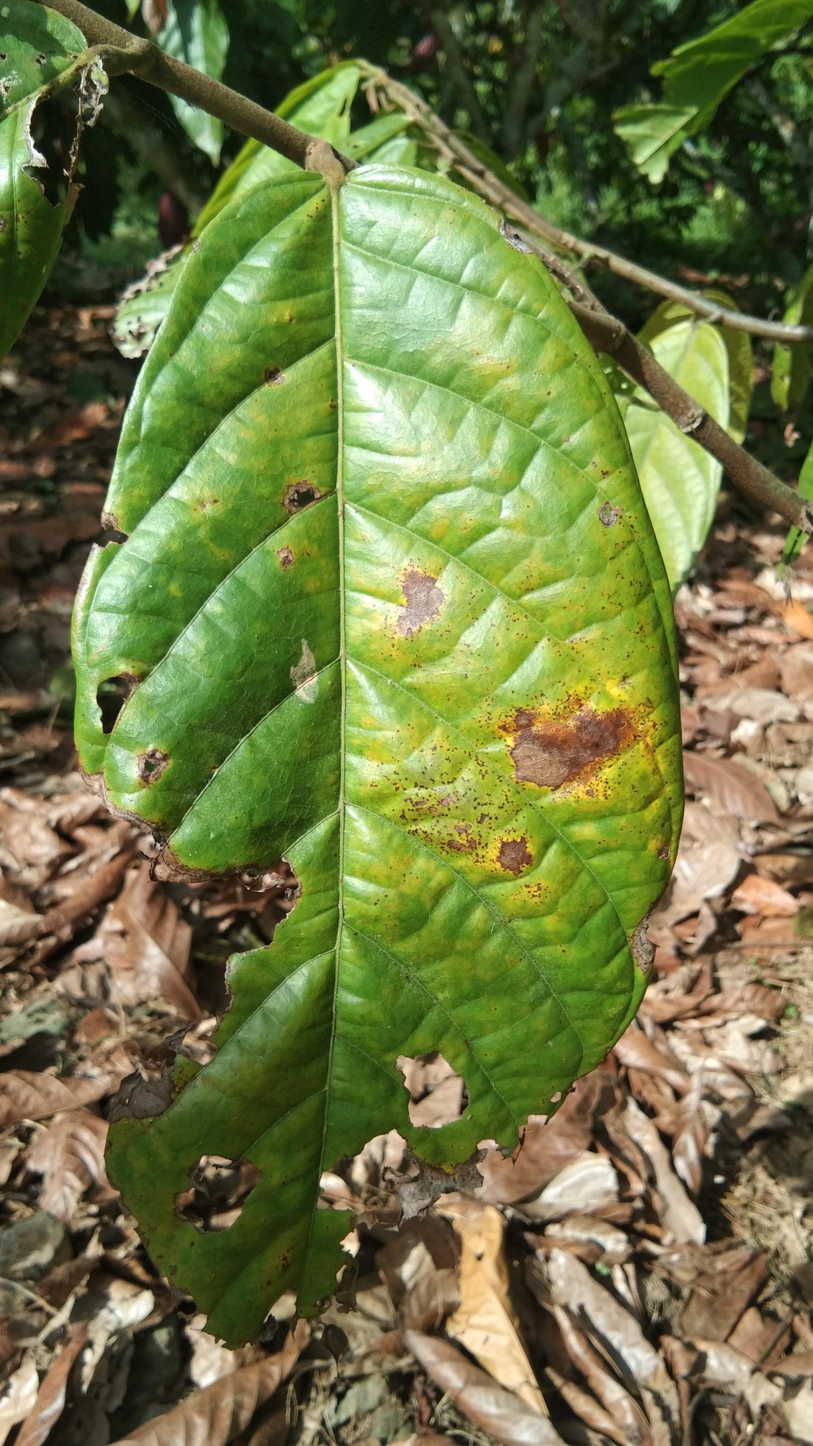deficiencia_potasio: (90, 160, 684, 1335)
